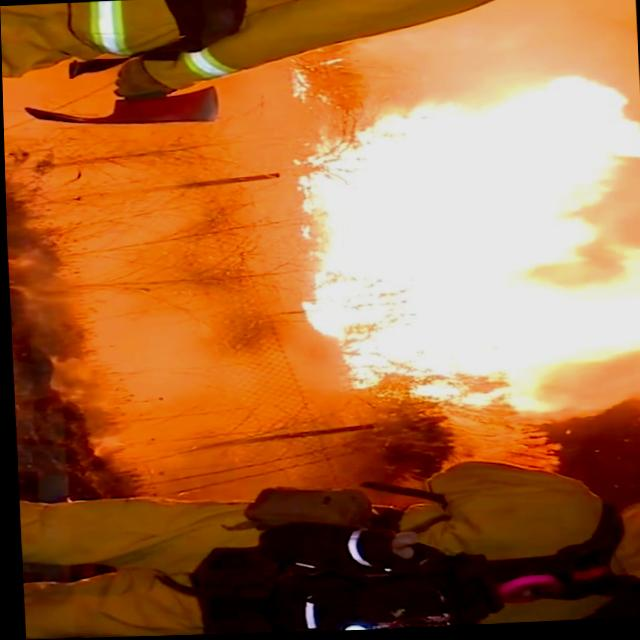fire: (289, 84, 640, 405)
